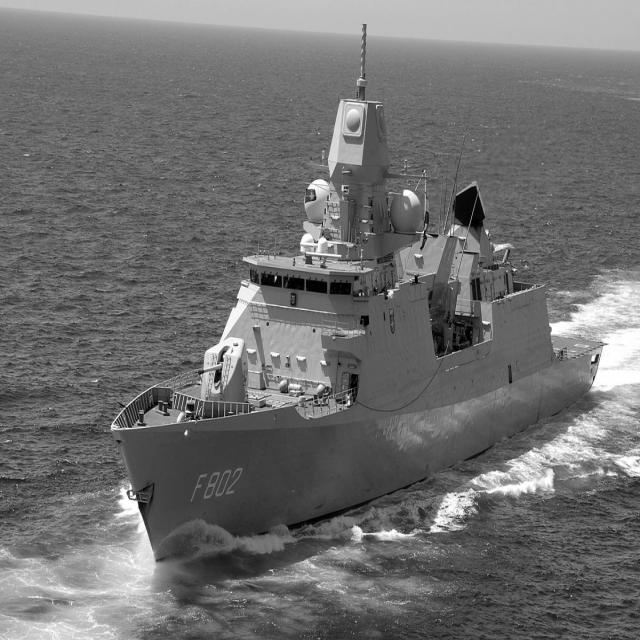Naval: (101, 16, 607, 572)
